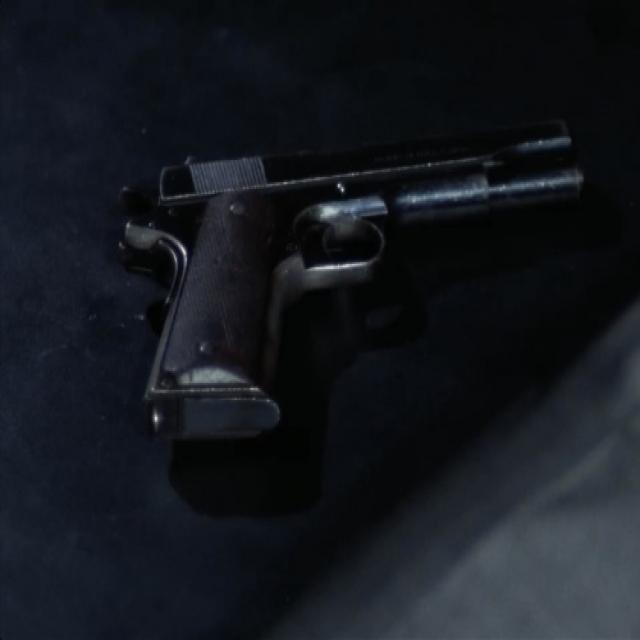weapons: (99, 91, 605, 422)
